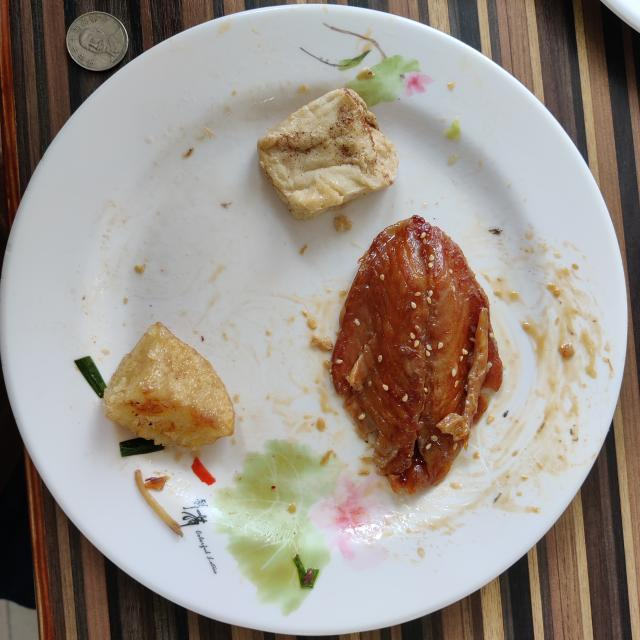Kabayaki sea bream fillet: (331, 216, 502, 494)
coin: (66, 11, 129, 71)
creamy tofu -without sauce-: (258, 89, 399, 220)
fried potato: (104, 322, 235, 448)
